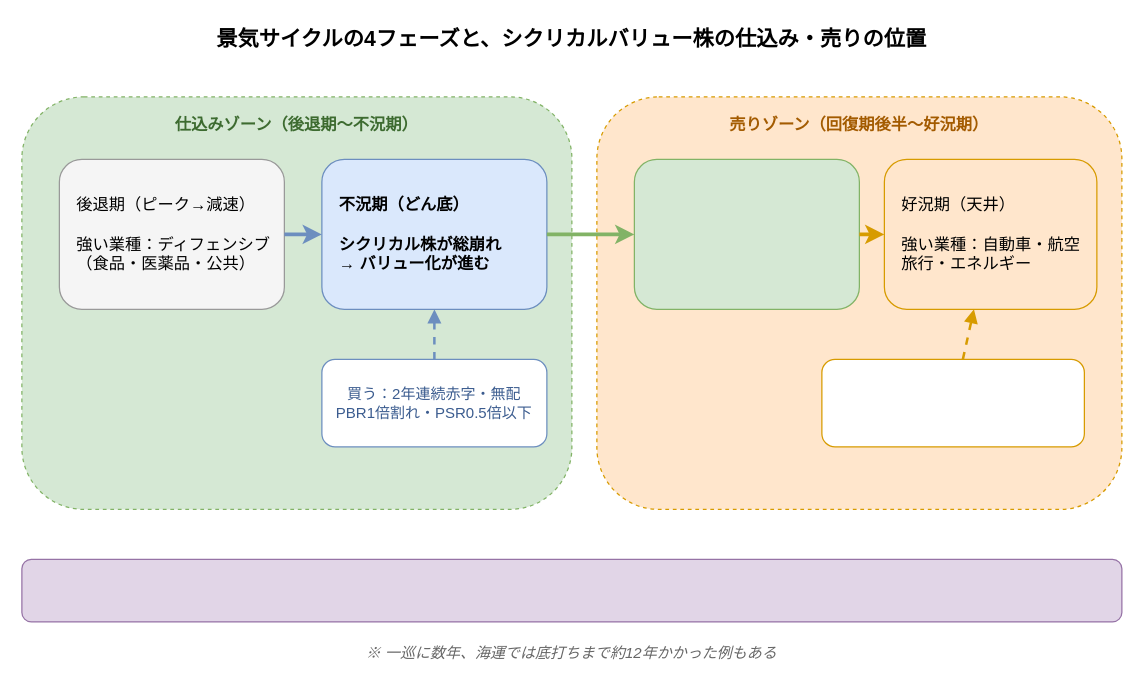
Image size: 1144x693. Some labels were removed from this diagram. The shapes that lost their labels are listed below. From the top down, each one's centre as x and y in pixels, then its label:
At (x=746, y=233): "回復期（底→上昇） 強い業種：建設・半導体 鉄鋼・海運".
At (x=952, y=402): "売る：逆算した目標PERに到達 （感情ではなく事前に決めた数字）".
At (x=571, y=590): "回復は「数量 → 価格 → 売上高」の順に効いてくる。決算の数字に表れる前に先読みできる。".
